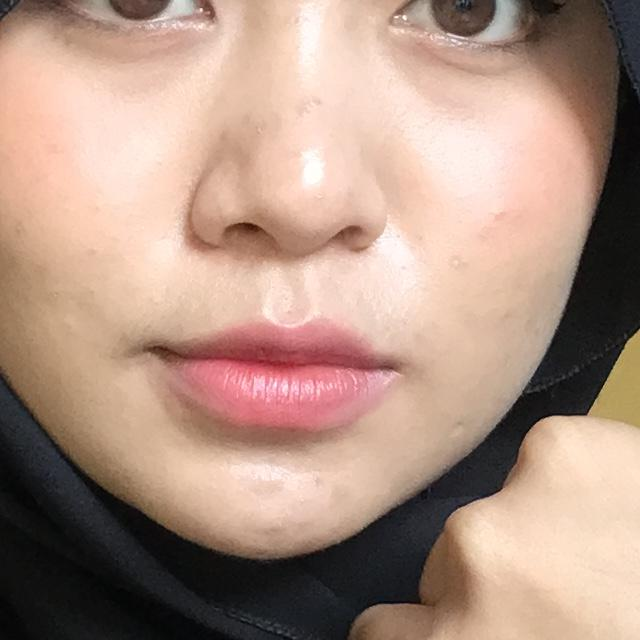telpon: (90, 116, 640, 640)
